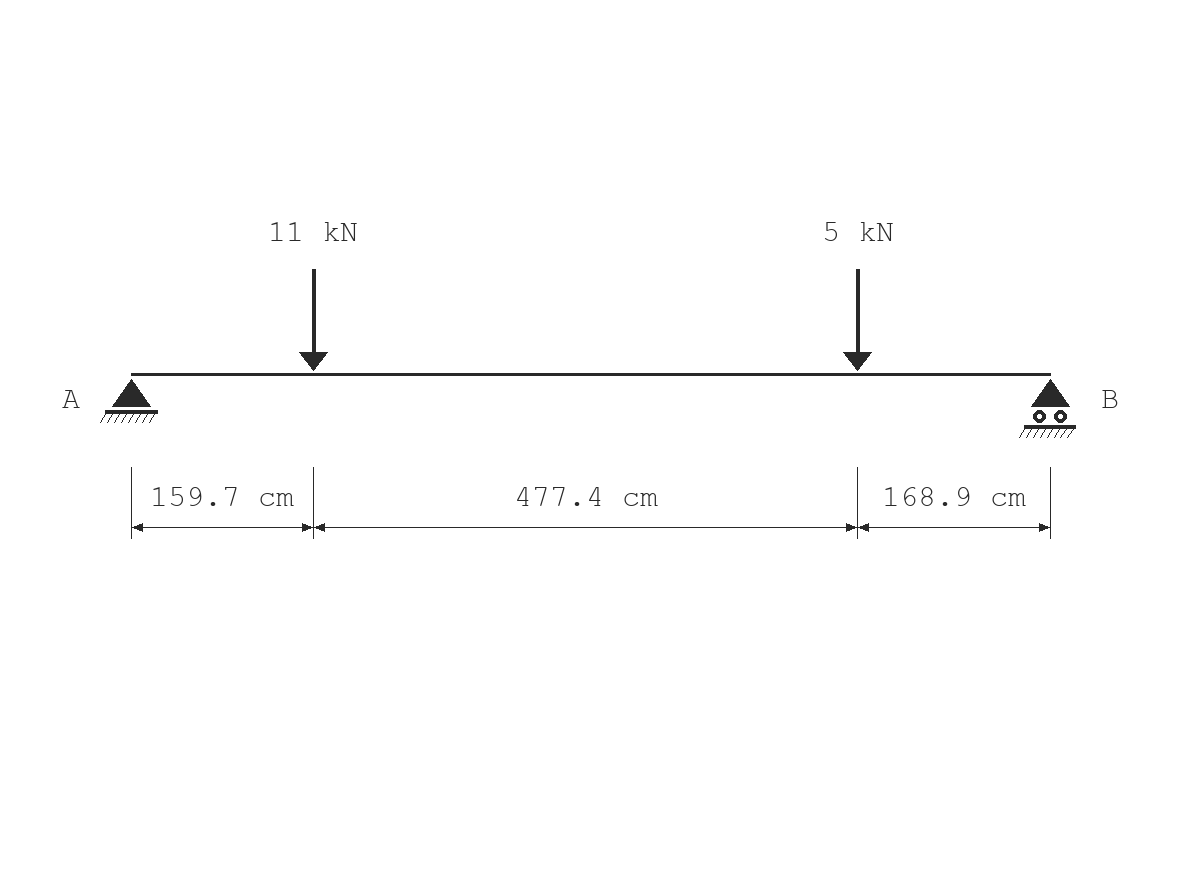pin_support: (100, 379, 158, 423)
point_load: (299, 269, 328, 371), (843, 269, 872, 371)
roller_support: (1019, 379, 1076, 438)
